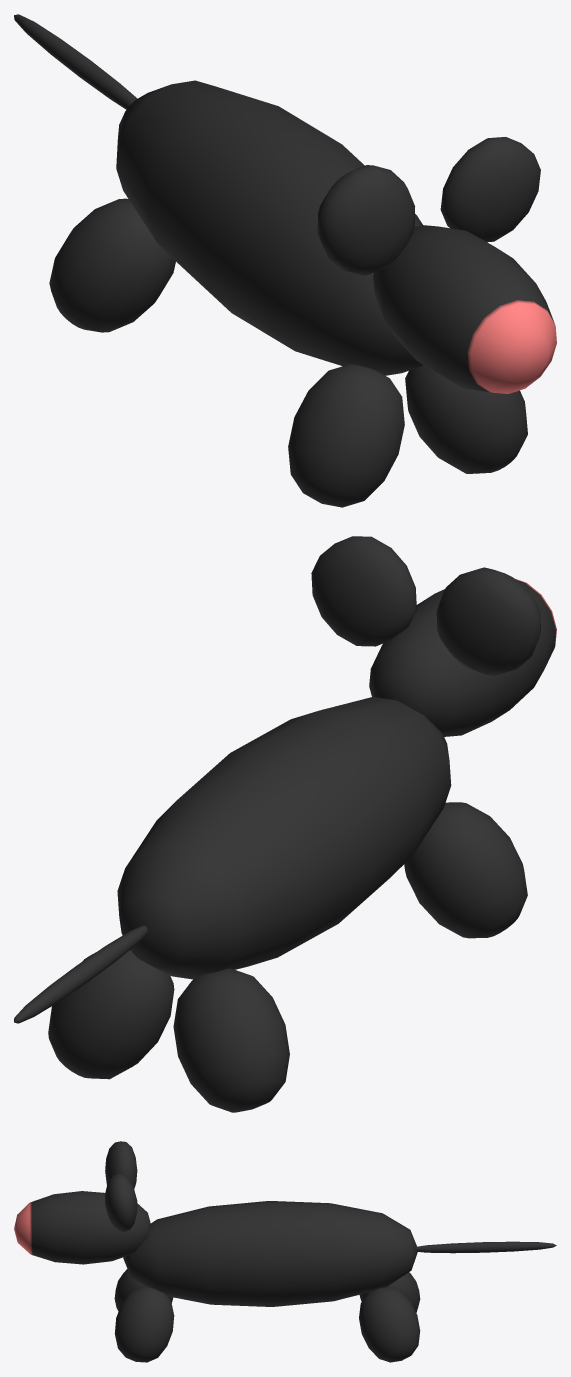
Rendered from balloonRat.fbx.
The picture shows the model from 3 angles, top to bottom: view 1: azimuth 30°, elevation 25°; view 2: azimuth 150°, elevation 25°; view 3: azimuth 270°, elevation 25°; orthographic projection. The views are drawn at different scales.
Visible parts, largest first — view 1: Sphere.017; view 2: Sphere.017; view 3: Sphere.017.
Boxes of the visible parts, box(x1,y1,x2,y2) form: Sphere.017: box(14, 14, 556, 507); Sphere.017: box(14, 536, 556, 1112); Sphere.017: box(14, 1141, 556, 1362).
Size of the model in its own units: 33 by 48.57 by 130.
